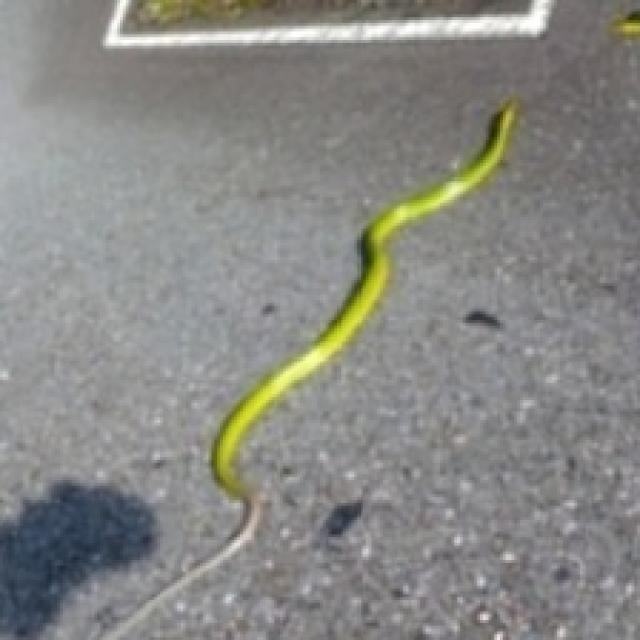red-tailed green ratsnake: (97, 94, 520, 637), (100, 94, 520, 637)
